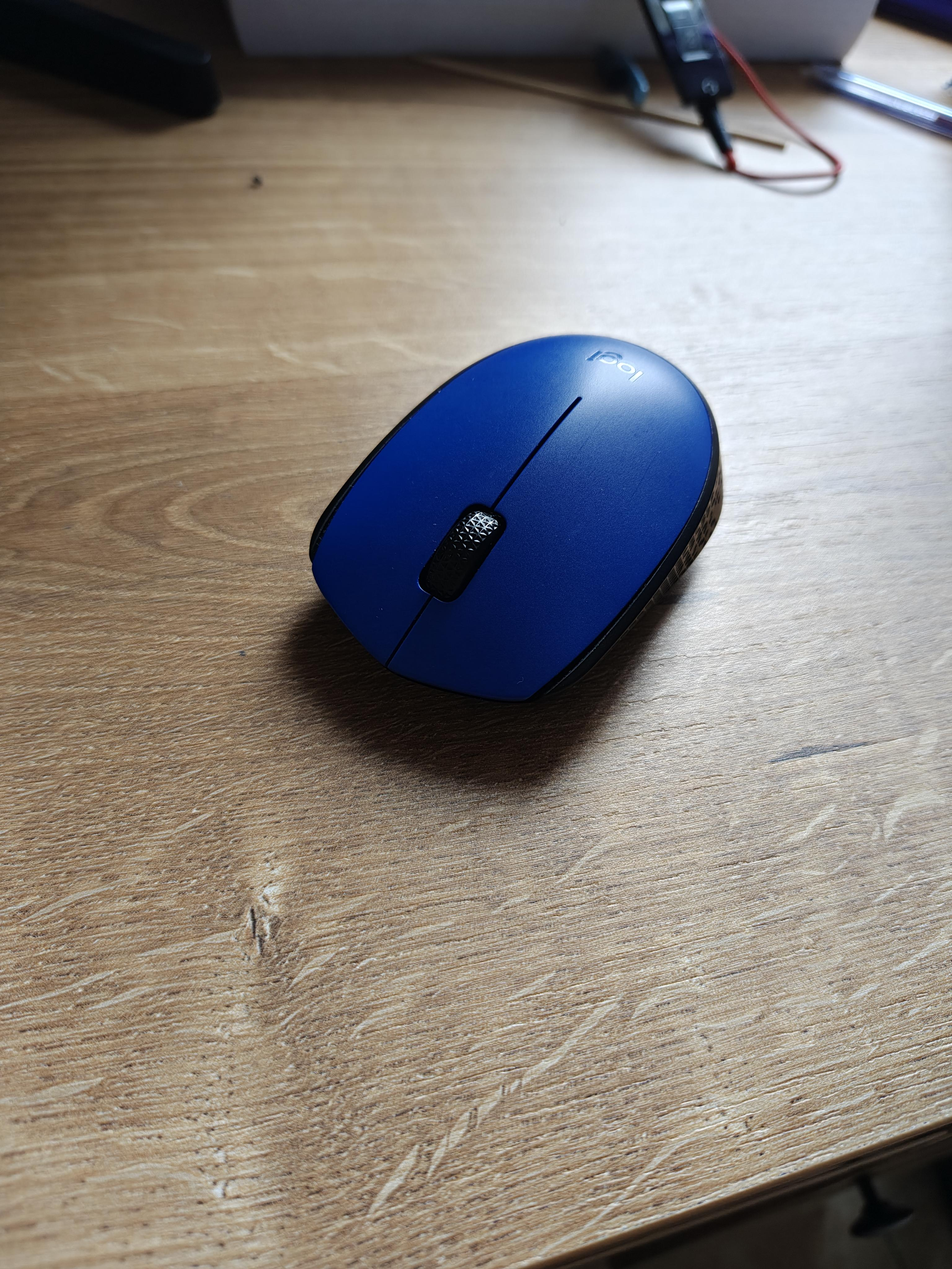mouse: (309, 334, 724, 705)
